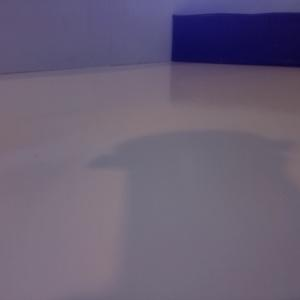zone: (169, 11, 300, 67)
